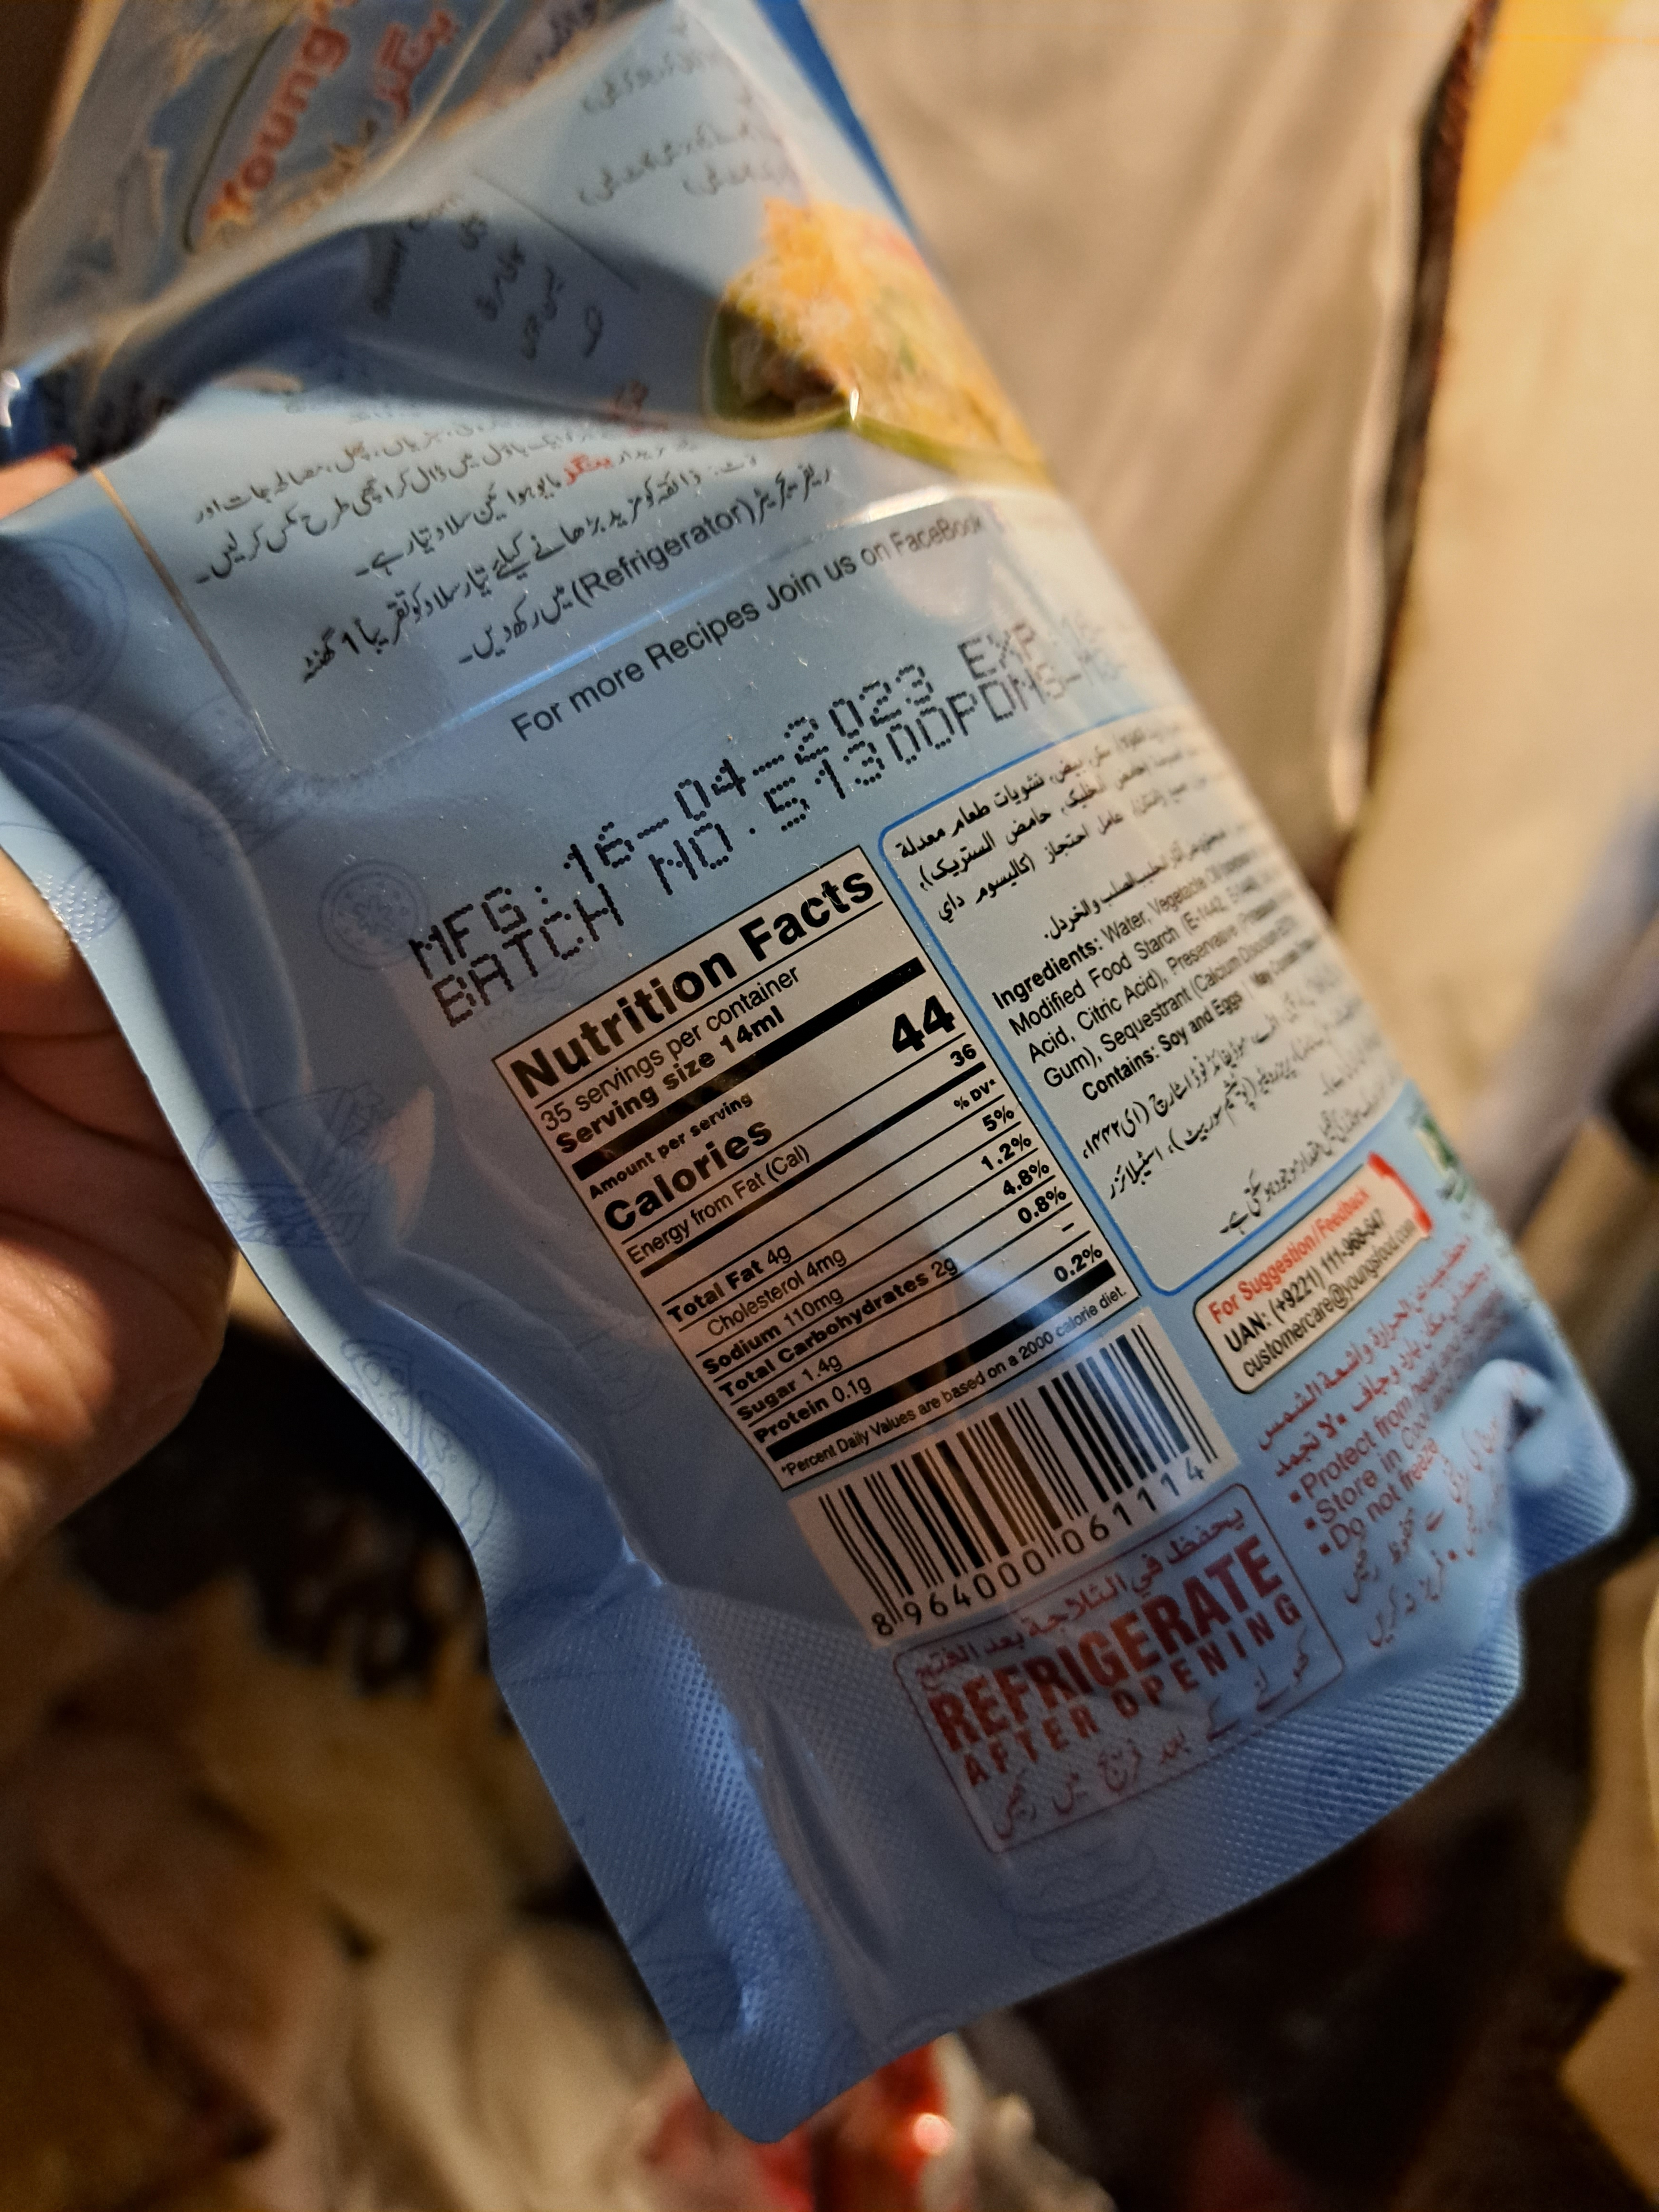table: (491, 857, 1134, 1484)
